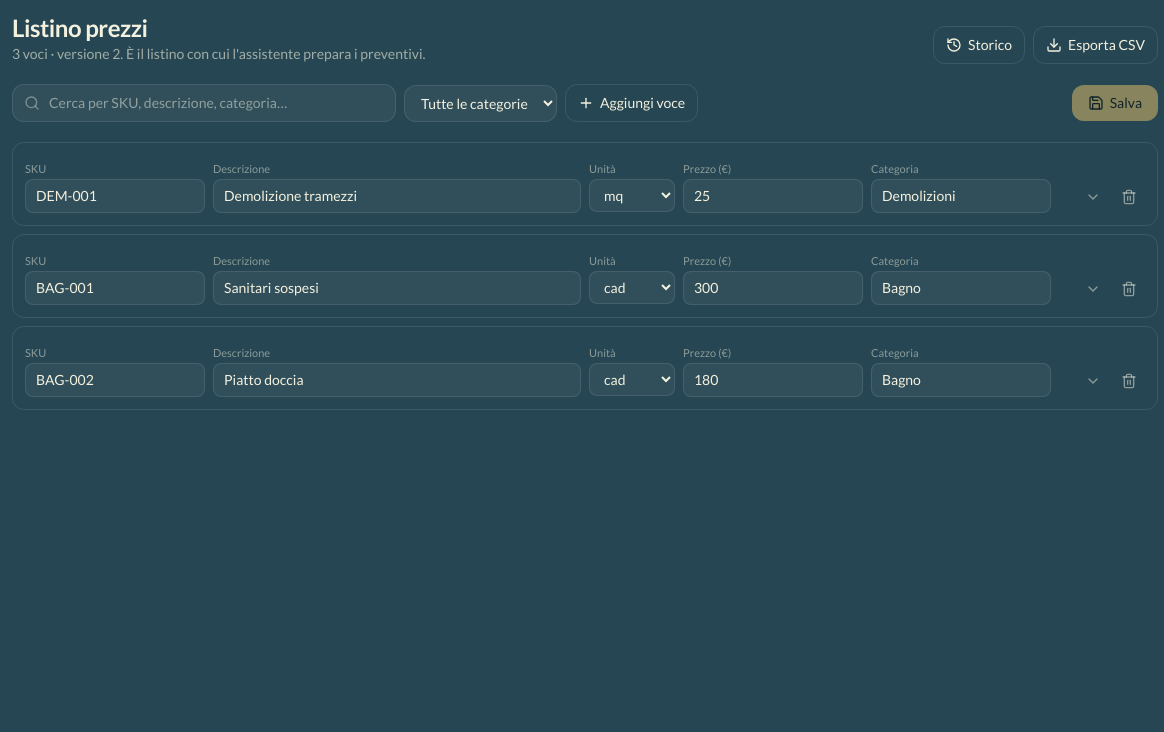
Test: PriceBookEditor › opens the version history
Click the button "Storico" at [979, 45], box [933,26,1025,64]
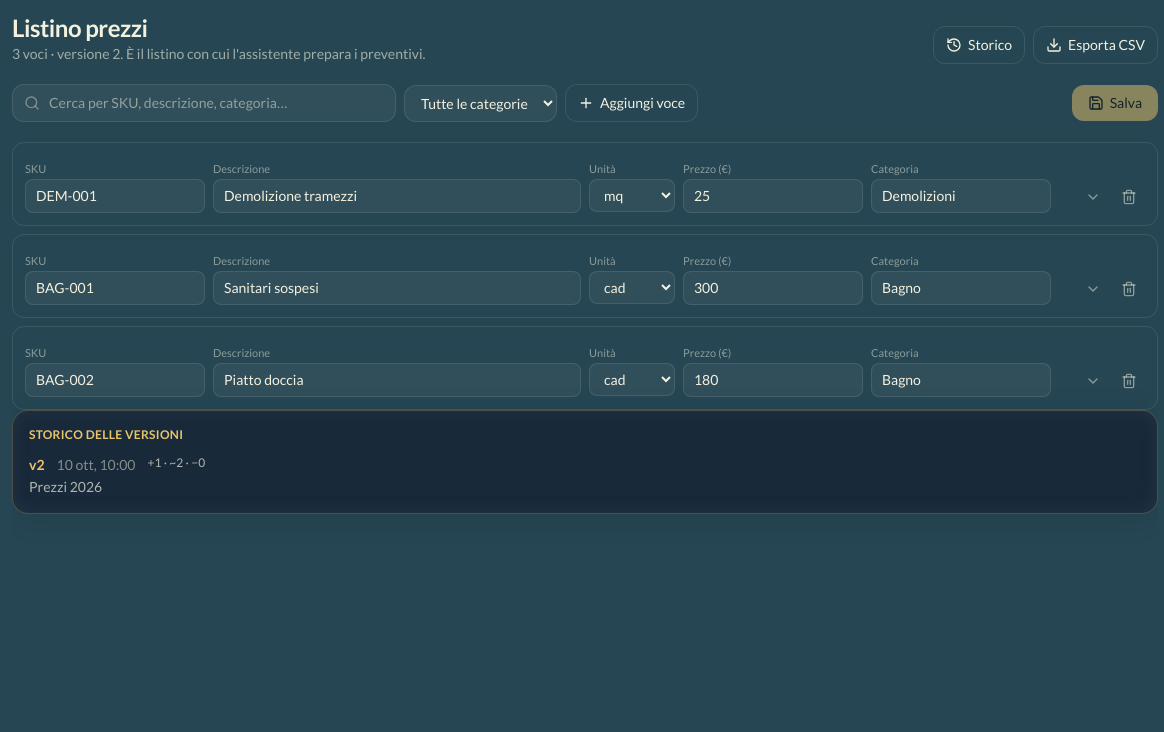
Expected: the element with test id "pb-history" shows "Prezzi 2026", [29,478,102,495]
